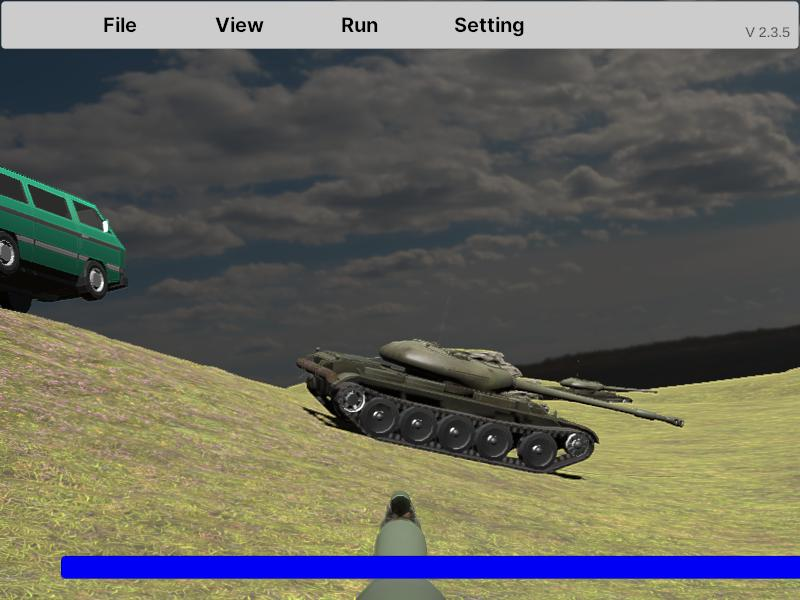Tank: (299, 340, 682, 474)
car: (0, 154, 127, 306)
